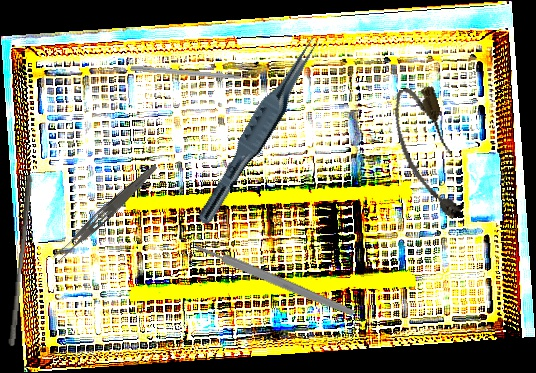Cannula: (385, 81, 471, 227)
Chopper: (129, 65, 259, 89)
Dressing Forceps: (50, 159, 160, 266)
Pusher: (8, 174, 33, 347)
Scalpel Handle: (194, 242, 356, 318)
Tissue Forceps: (195, 29, 325, 233)
